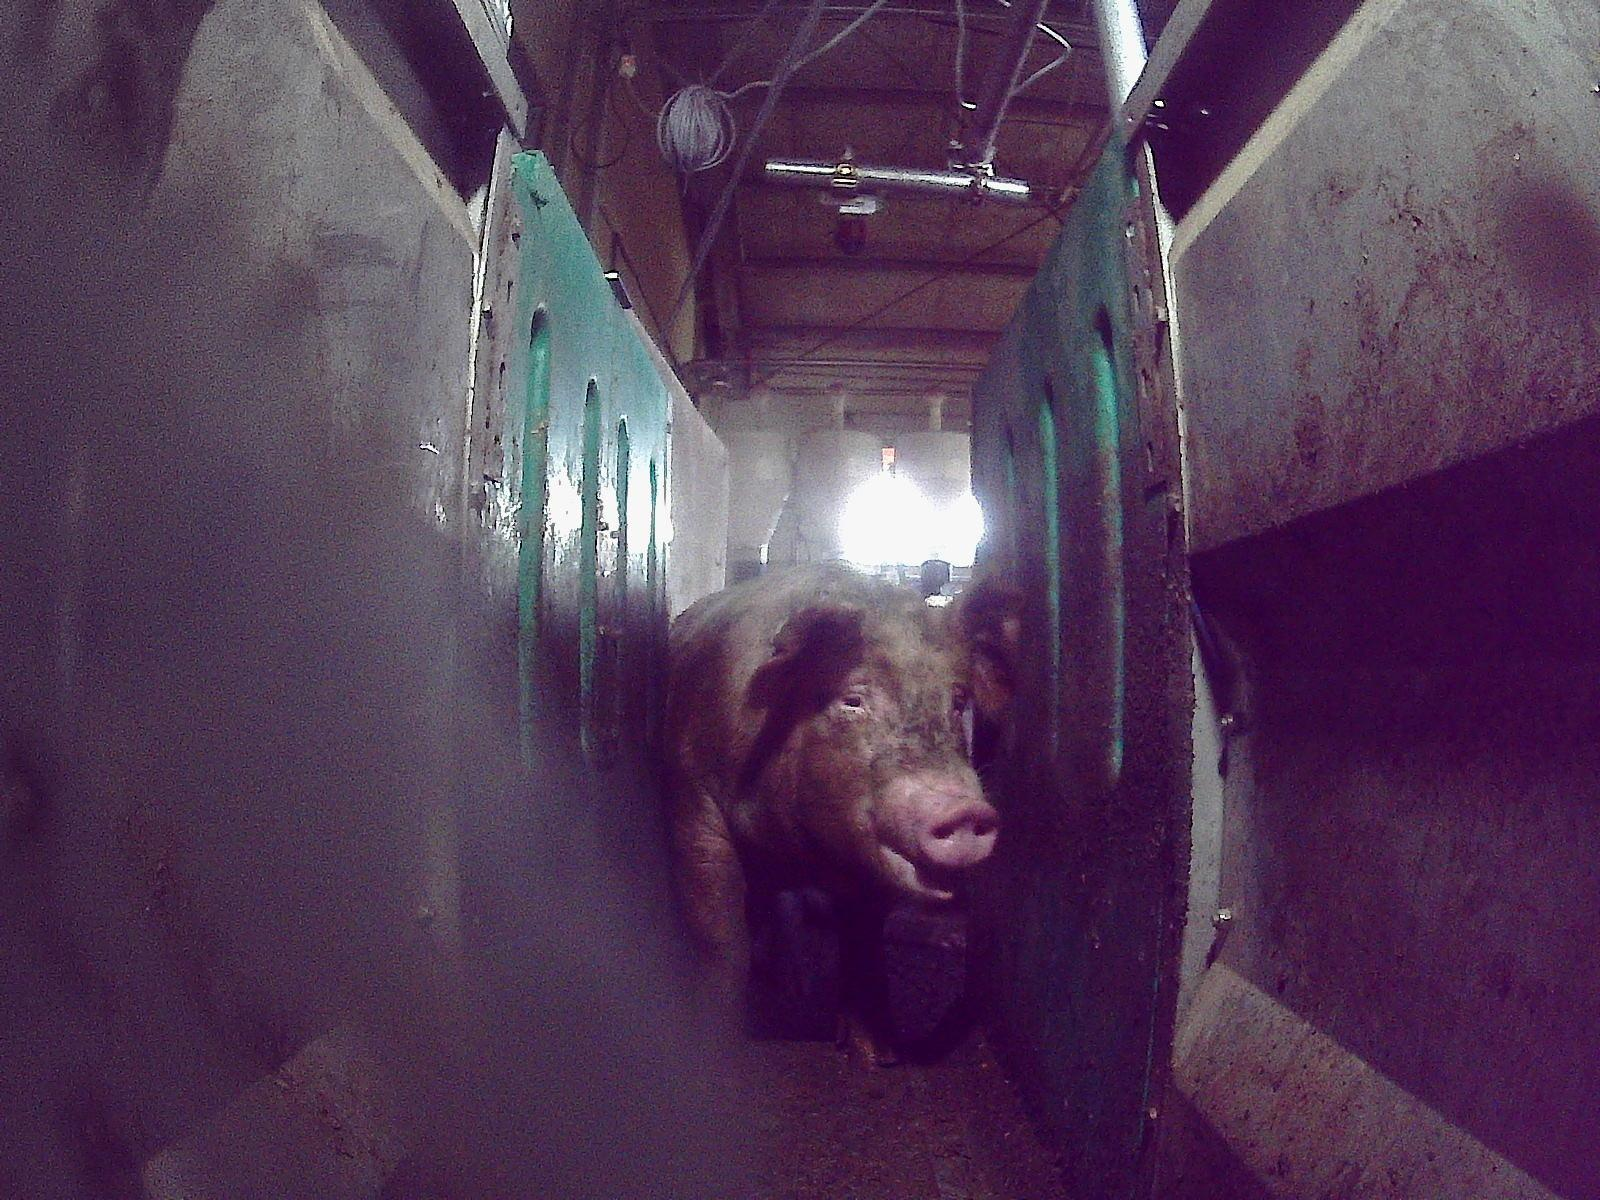Face: (776, 608, 995, 902)
